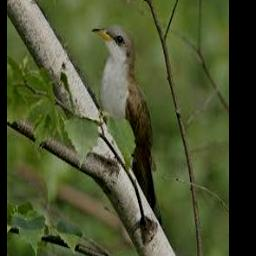Cuckoo: (92, 25, 162, 227)
